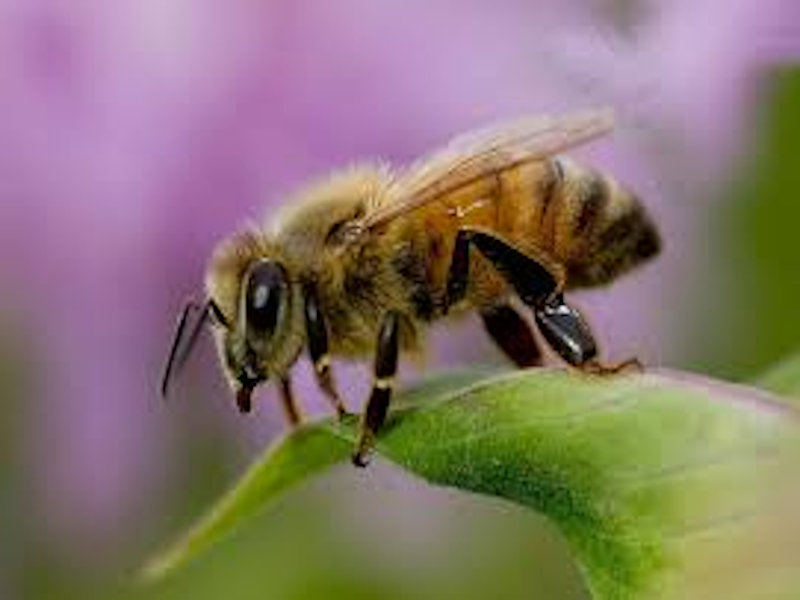abeja: (156, 92, 668, 463)
